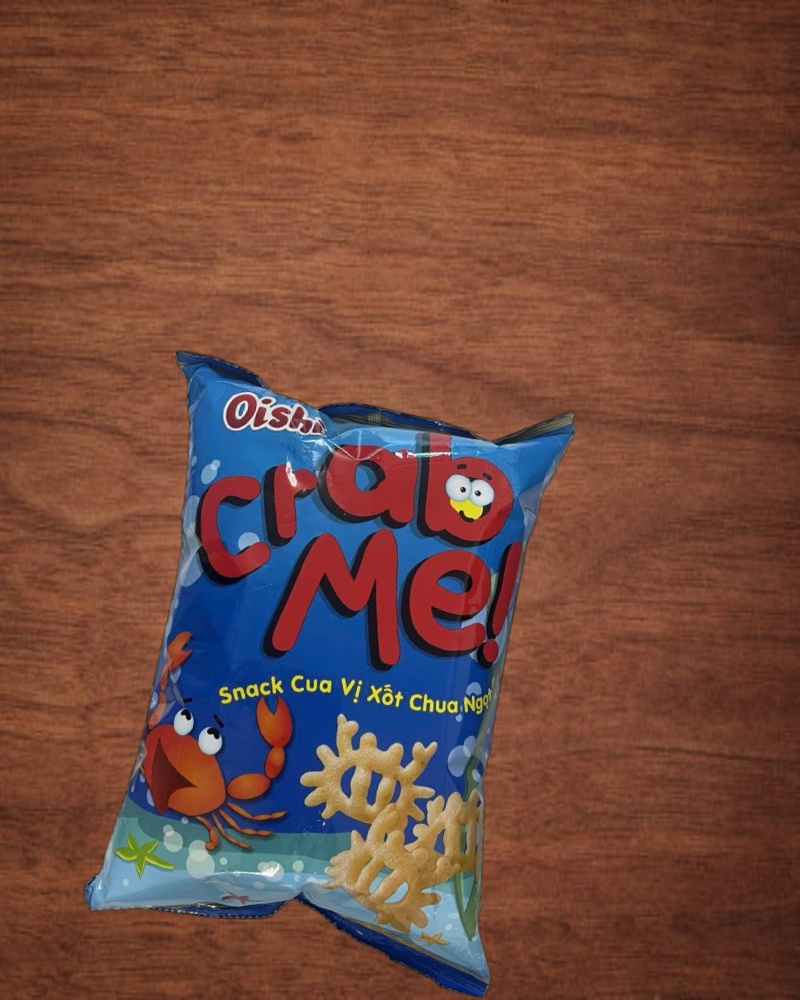Snack cua: (77, 343, 591, 993)
